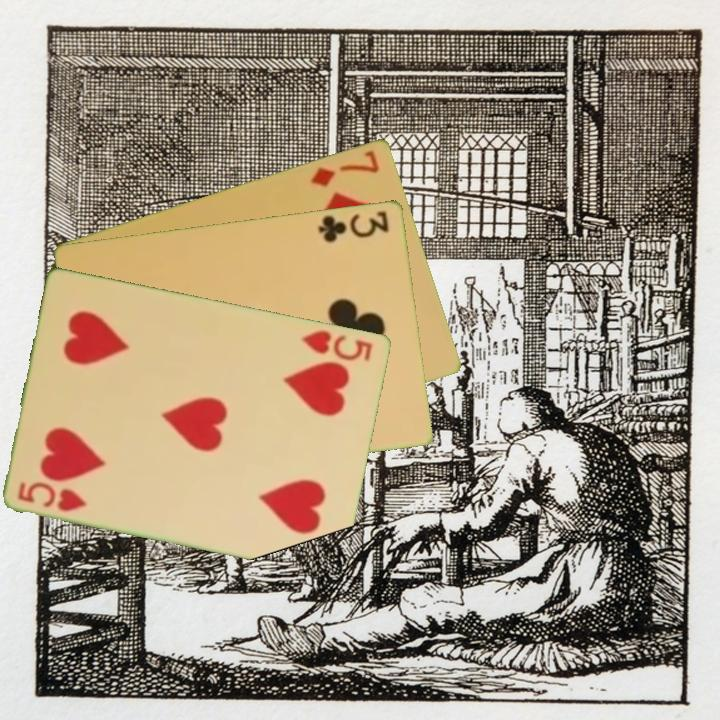3c: (315, 207, 392, 245)
5h: (298, 326, 376, 364), (15, 478, 90, 514)
7d: (307, 146, 382, 189)
